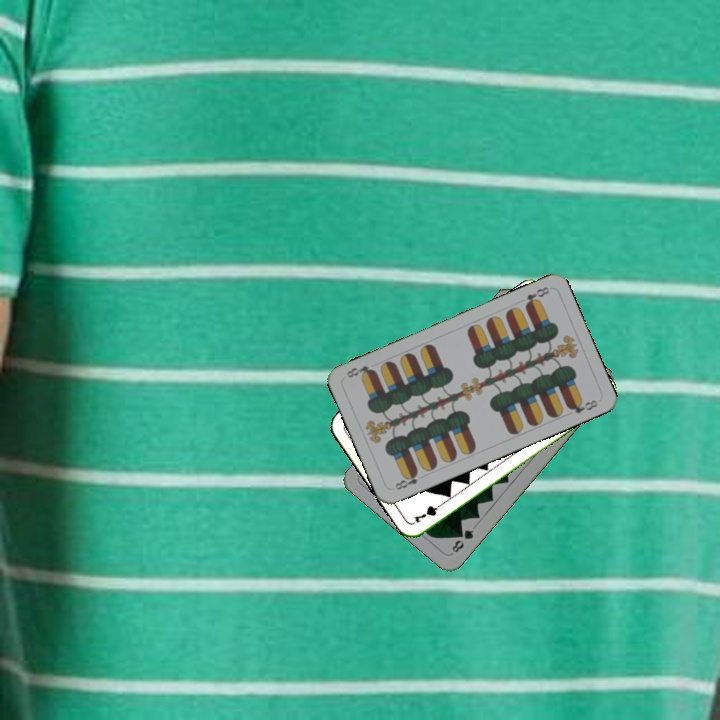E8: (521, 283, 552, 310), (391, 467, 421, 492)
G7: (409, 497, 447, 526)
G8: (448, 525, 477, 555)
